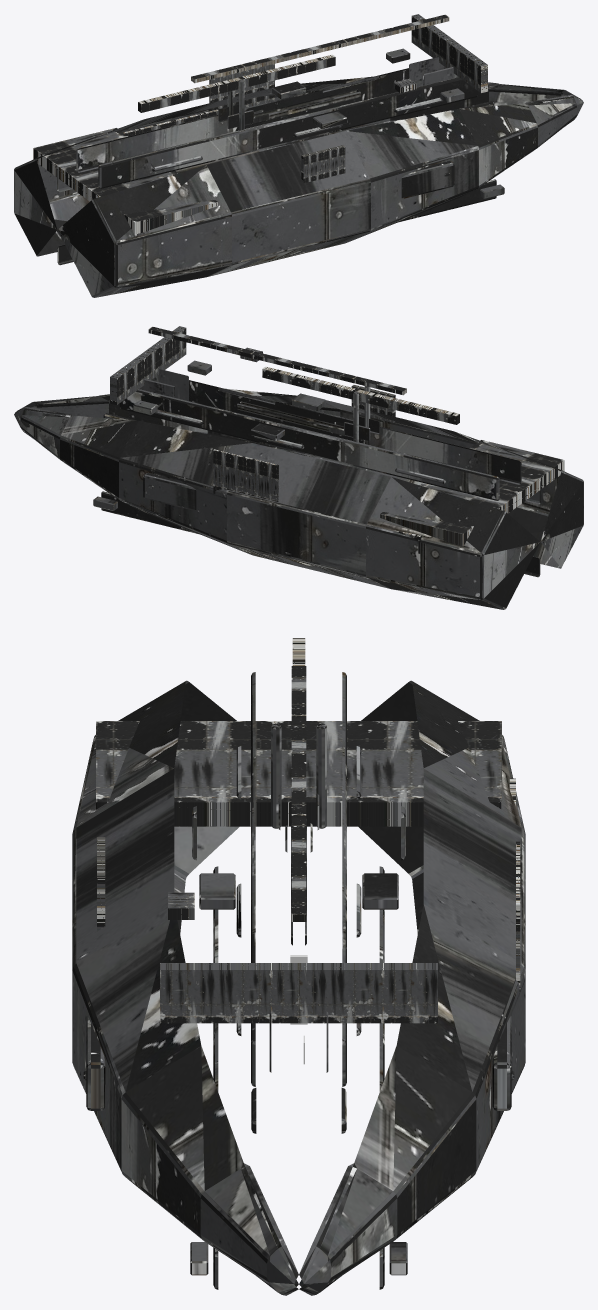
File: hull_freighter.glb
3 views of the same model, one above another, from view 1: azimuth 30°, elevation 25°; view 2: azimuth 150°, elevation 25°; view 3: azimuth 270°, elevation 25° (orthographic). The views are drawn at different scales.
Visible parts, largest first — view 1: LOD0_HULL_FREIGHTER_MAIN, DET_exhaust_soot, DET_cargo_bay_rim, DET_superstructure_rib, DET_rust_stripe, DET_field_weld, DET_manifest_stencil, DET_dock_scrape; view 2: LOD0_HULL_FREIGHTER_MAIN, DET_exhaust_soot, DET_manifest_stencil, DET_cargo_bay_rim, DET_superstructure_rib, DET_rust_stripe, DET_field_weld; view 3: LOD0_HULL_FREIGHTER_MAIN, DET_exhaust_soot, DET_superstructure_rib, DET_rust_stripe, DET_field_weld.
Part boxes in pixels (x1,y1,x2,y2): LOD0_HULL_FREIGHTER_MAIN: (14, 48, 583, 297); DET_exhaust_soot: (33, 128, 217, 234); DET_cargo_bay_rim: (138, 54, 335, 112); DET_superstructure_rib: (411, 14, 487, 92); DET_rust_stripe: (191, 14, 449, 83); DET_field_weld: (301, 145, 345, 183); DET_manifest_stencil: (209, 64, 274, 111); DET_dock_scrape: (123, 109, 218, 136); LOD0_HULL_FREIGHTER_MAIN: (14, 360, 583, 609); DET_exhaust_soot: (380, 440, 564, 546); DET_manifest_stencil: (213, 449, 278, 501); DET_cargo_bay_rim: (262, 366, 459, 424); DET_superstructure_rib: (110, 326, 186, 404); DET_rust_stripe: (148, 326, 406, 395); DET_field_weld: (351, 385, 395, 422); LOD0_HULL_FREIGHTER_MAIN: (72, 672, 525, 1295); DET_exhaust_soot: (96, 721, 501, 826); DET_superstructure_rib: (160, 963, 437, 1023); DET_rust_stripe: (291, 666, 306, 921); DET_field_weld: (97, 837, 105, 931).
Size of the model in its own units: 11.35 by 3.6 by 4.24.
4 materials, 4 textured.
